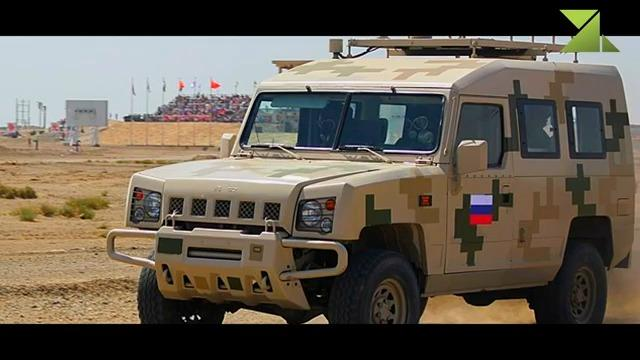MIL_HMMWV: (104, 54, 636, 326)
